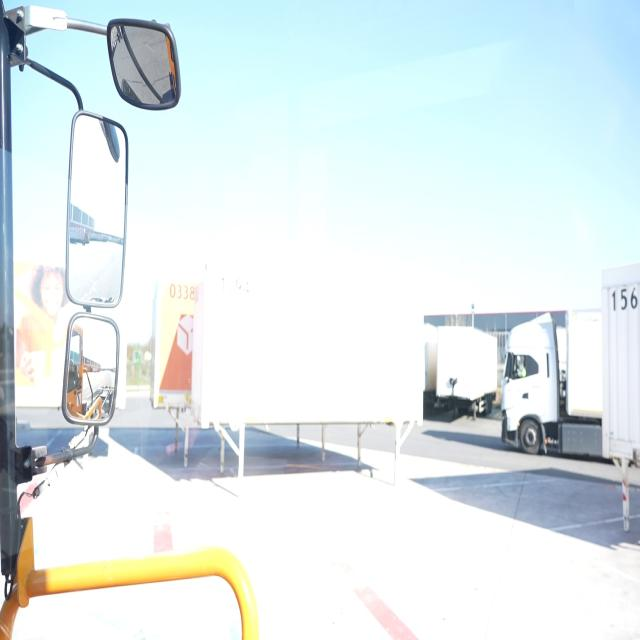Code: (166, 279, 198, 304)
